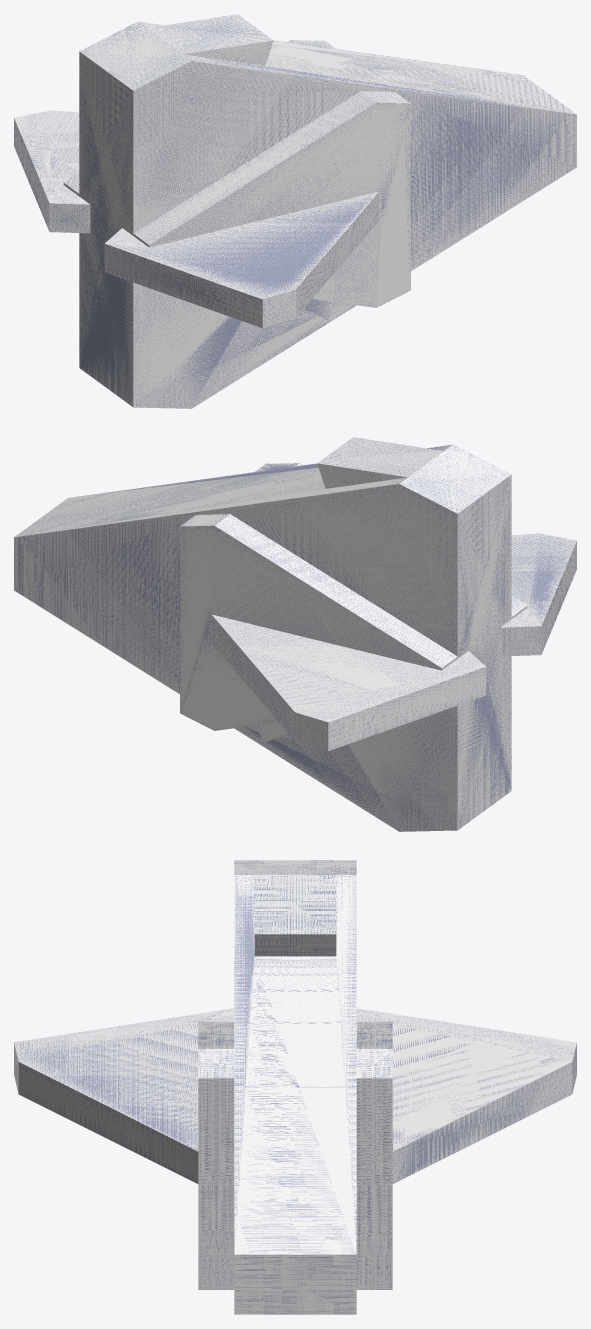
Rendered from SocialSciences_mergedCoreFacial_exploded.dae.
3 renders of one model, top to bottom at view 1: azimuth 30°, elevation 25°; view 2: azimuth 150°, elevation 25°; view 3: azimuth 270°, elevation 25°, orthographic. The views are drawn at different scales.
Visible parts, largest first — view 1: SketchUp; view 2: SketchUp; view 3: SketchUp.
Boxes of the visible parts, x1=… form: SketchUp: x1=14, y1=14, x2=576, y2=408; SketchUp: x1=14, y1=437, x2=576, y2=831; SketchUp: x1=14, y1=860, x2=576, y2=1314.
Size of the model in its own units: 151 by 137 by 106.
